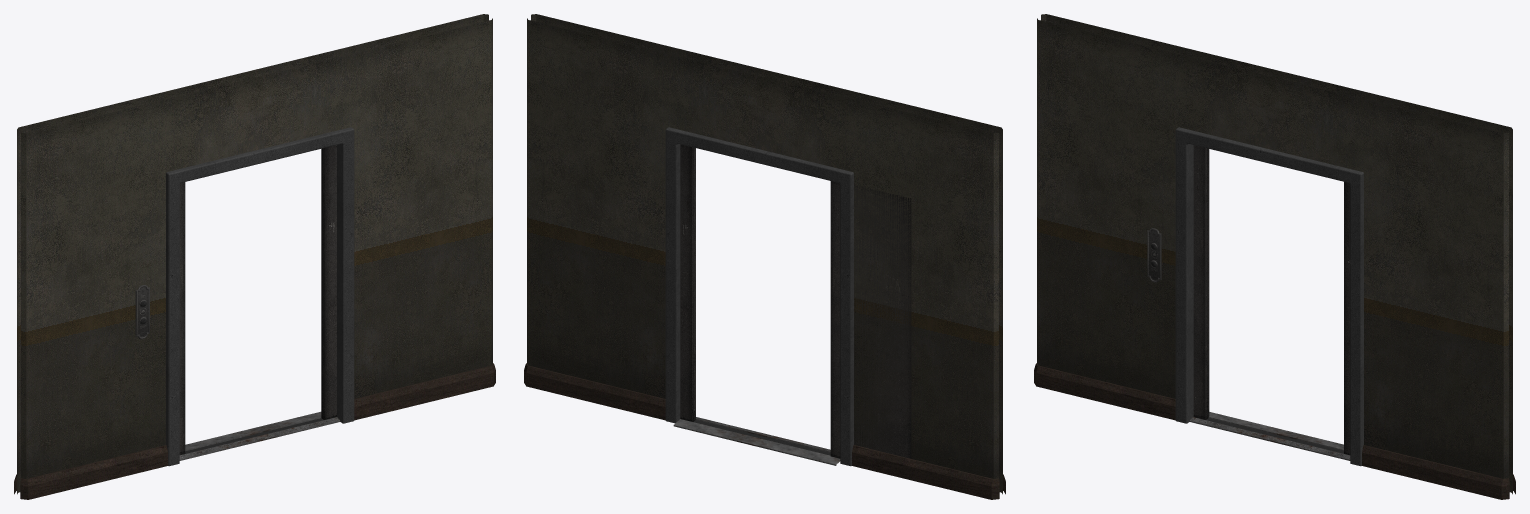
Rendered from elevator_doorway_1.glb.
3 renders of one model, left to right at view 1: azimuth 30°, elevation 25°; view 2: azimuth 150°, elevation 25°; view 3: azimuth 330°, elevation 25°, orthographic.
Parts seen in each view (by area): view 1: elevator_doorway_1, elevator_door_1_a, elevator_door_1_b, elevator_call_button_1; view 2: elevator_doorway_1, elevator_door_1_b, elevator_door_1_a; view 3: elevator_doorway_1, elevator_door_1_b, elevator_door_1_a, elevator_call_button_1.
Boxes of the visible parts, bbox=[...] form: elevator_doorway_1: bbox=[14, 14, 495, 499]; elevator_door_1_a: bbox=[321, 145, 336, 419]; elevator_door_1_b: bbox=[179, 182, 185, 455]; elevator_call_button_1: bbox=[135, 285, 149, 339]; elevator_doorway_1: bbox=[524, 14, 1005, 499]; elevator_door_1_b: bbox=[830, 181, 911, 458]; elevator_door_1_a: bbox=[680, 144, 695, 421]; elevator_doorway_1: bbox=[1034, 14, 1515, 499]; elevator_door_1_b: bbox=[1193, 145, 1209, 419]; elevator_door_1_a: bbox=[1344, 182, 1350, 455]; elevator_call_button_1: bbox=[1147, 228, 1161, 282].
Size of the model in its own units: 4.09 by 3 by 0.25.
Materials: 7 (7 with a texture image).
